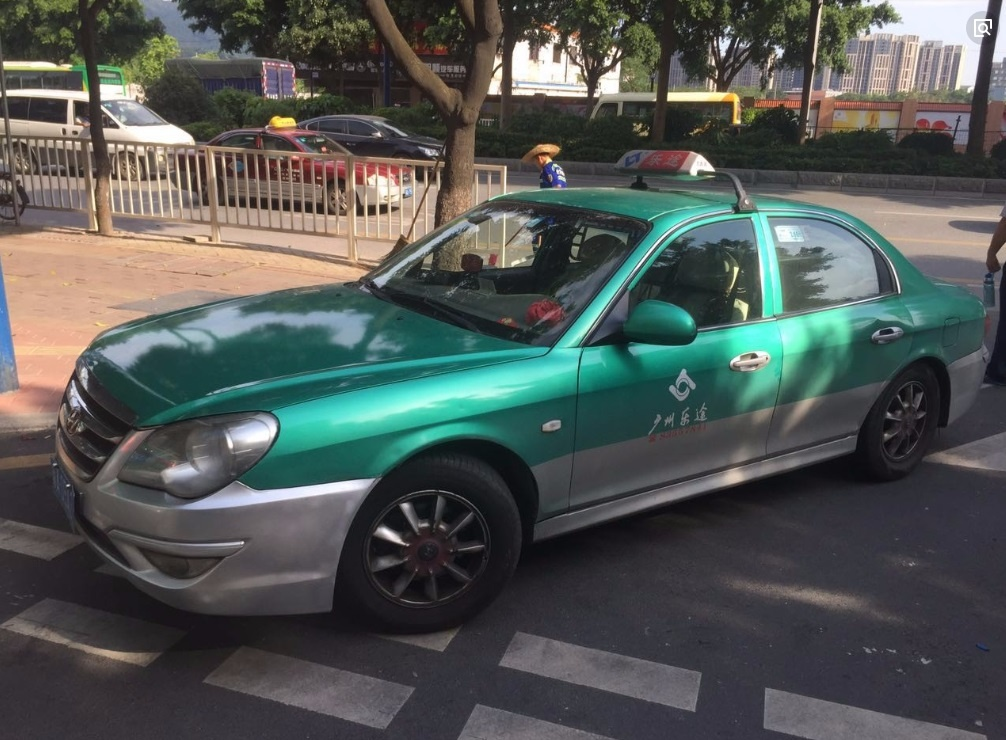taxi: (50, 179, 982, 613)
